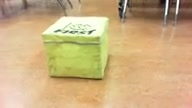cube: (41, 17, 108, 80)
